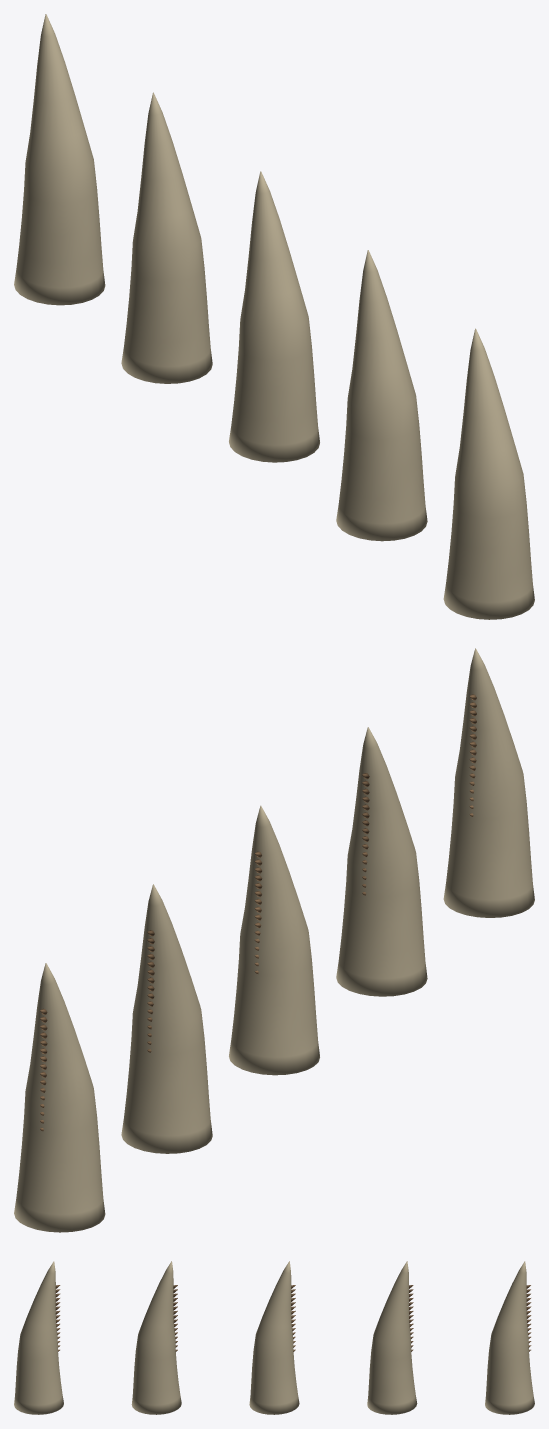
3 views of the same model, one above another, from view 1: azimuth 30°, elevation 25°; view 2: azimuth 150°, elevation 25°; view 3: azimuth 270°, elevation 25° (orthographic). The views are drawn at different scales.
Parts seen in each view (by area): view 1: D06_SPEC_Ivory_export; view 2: D06_SPEC_Ivory_export, D06_SPEC_Fossil umber_export; view 3: D06_SPEC_Ivory_export, D06_SPEC_Fossil umber_export.
Boxes of the visible parts, box(x1,y1,x2,y2) form: D06_SPEC_Ivory_export: box(14, 14, 534, 619); D06_SPEC_Ivory_export: box(14, 648, 534, 1232); D06_SPEC_Fossil umber_export: box(40, 694, 476, 1131); D06_SPEC_Ivory_export: box(14, 1261, 534, 1414); D06_SPEC_Fossil umber_export: box(55, 1285, 531, 1351).
Size of the model in its own units: 0.2 by 0.6326 by 2.08.
